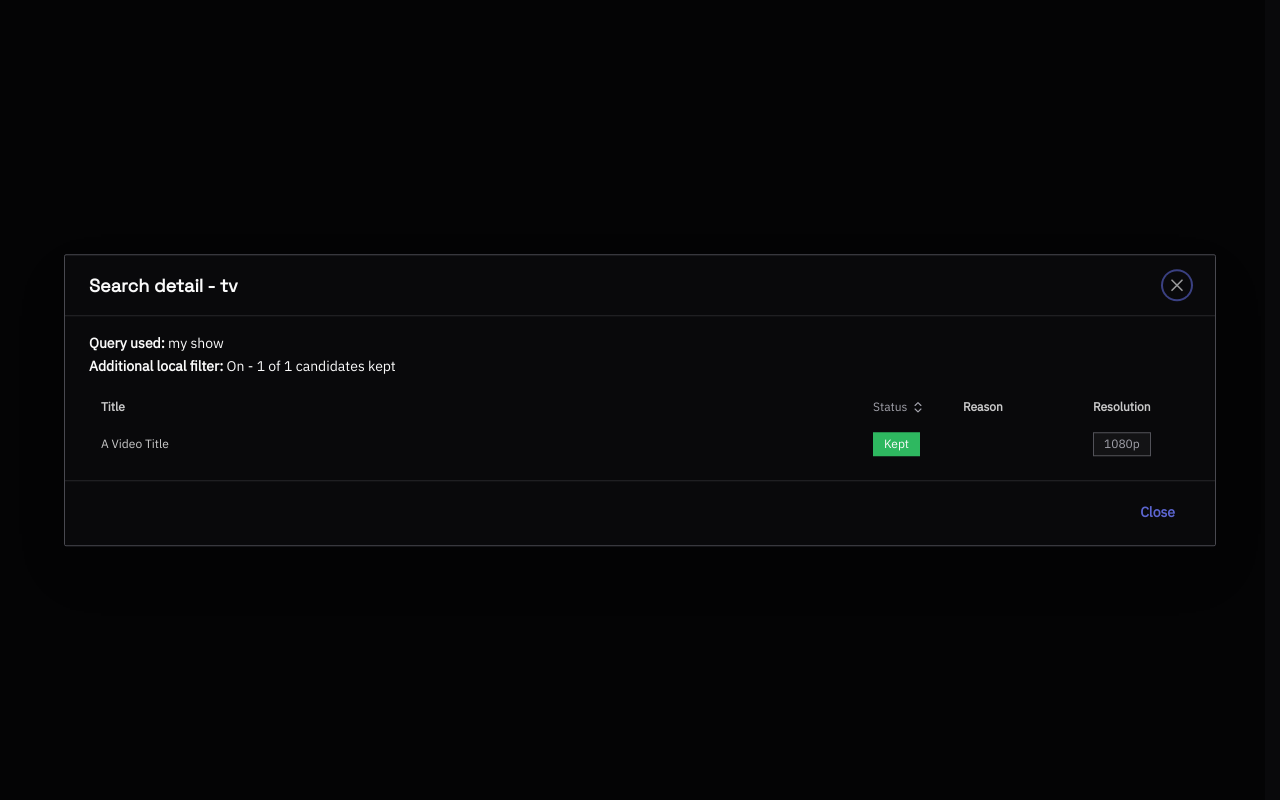
Scenario: NzbSearchTraceDialog › resolution column › explains where a resolution came from in a tooltip
Hover over the button "1080p" at (1122, 444), box [1093,432,1151,456]
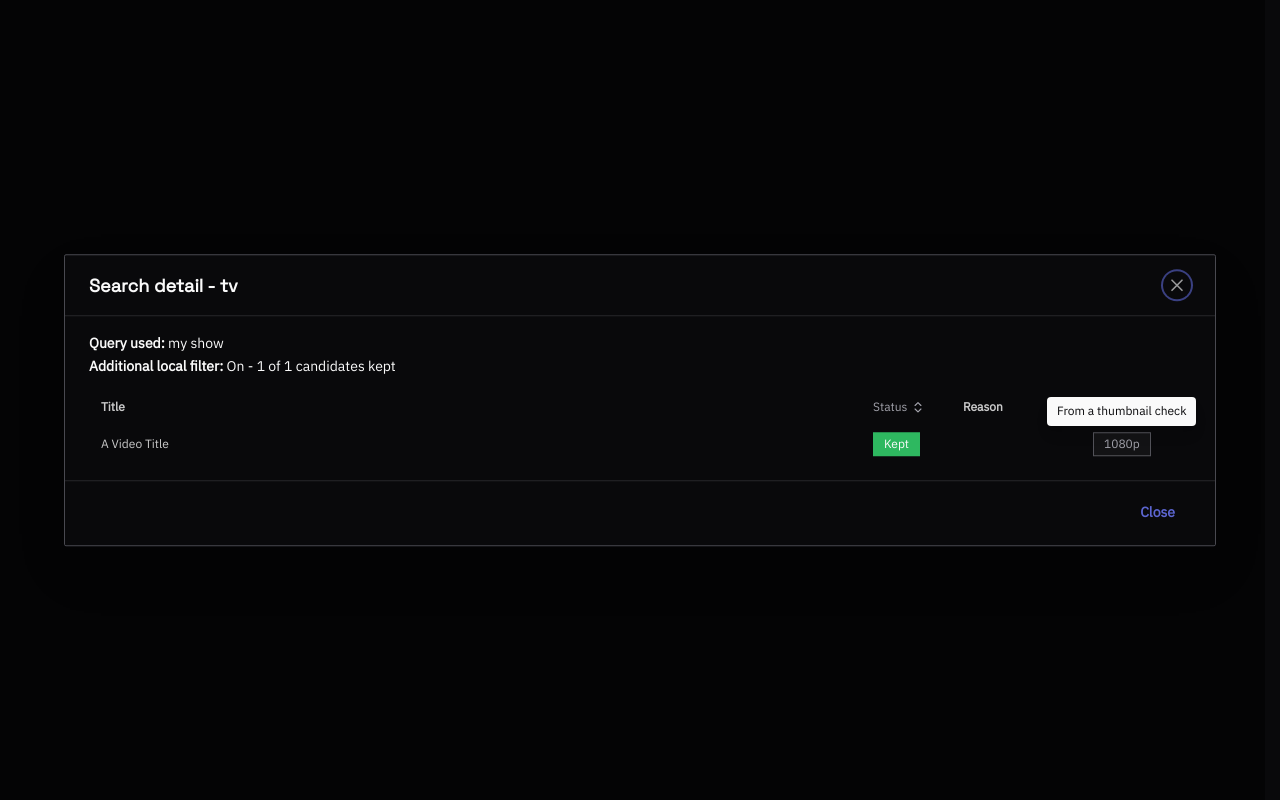
Now the tooltip "From a thumbnail check" is shown, box [1047,397,1196,426]
